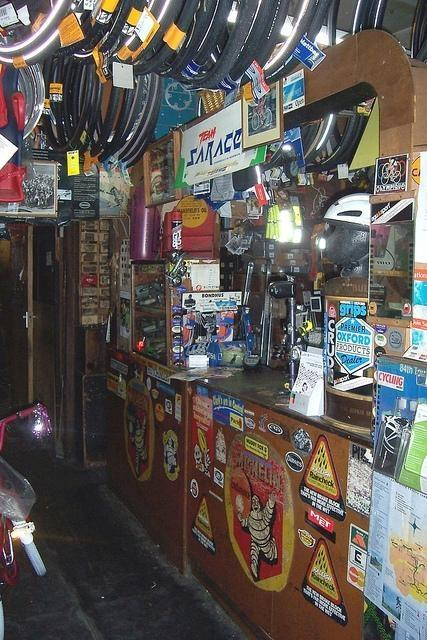bicycle: (0, 403, 55, 638)
